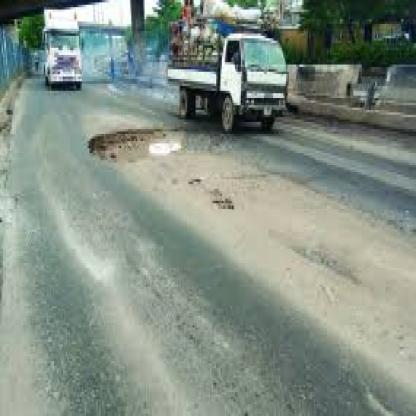car: (156, 2, 298, 146), (33, 3, 92, 125)
